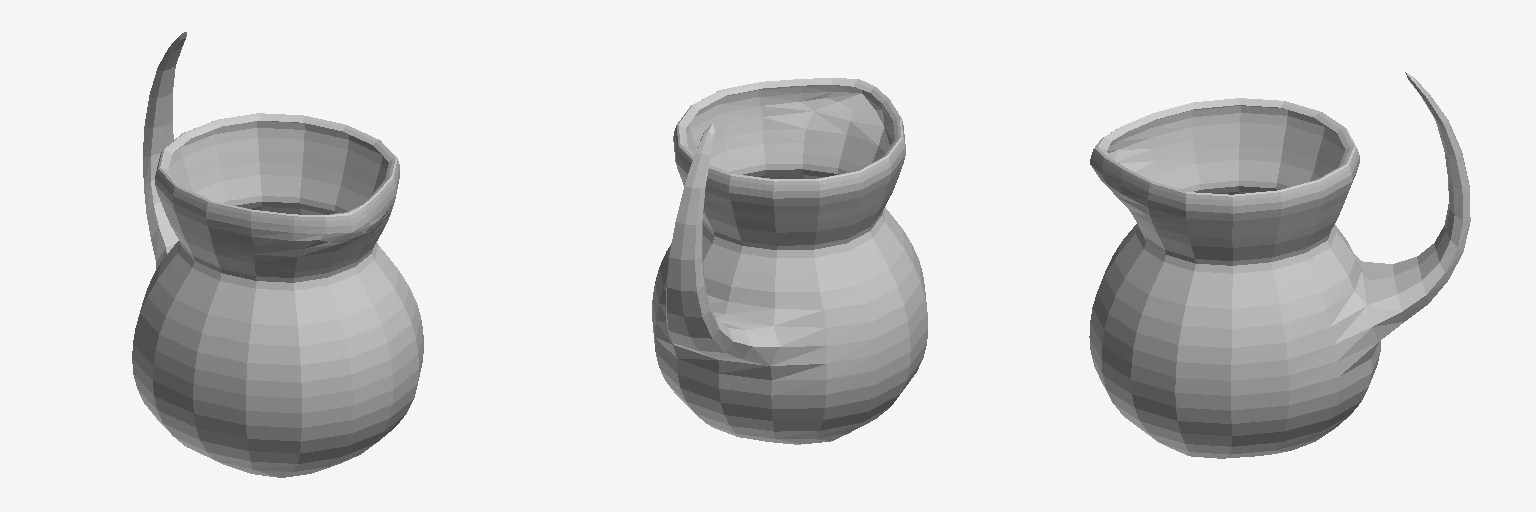
Rendered from HighPolyJarrónFinal.obj.
3 renders of one model, left to right at view 1: azimuth 30°, elevation 25°; view 2: azimuth 150°, elevation 25°; view 3: azimuth 270°, elevation 25°, orthographic.
Visible parts, largest first — view 1: HighPoly; view 2: HighPoly; view 3: HighPoly.
Boxes of the visible parts, box(x1,y1,x2,y2) form: HighPoly: box(132, 32, 423, 477); HighPoly: box(652, 78, 927, 444); HighPoly: box(1089, 72, 1470, 458).
Size of the model in its own units: 63.77 by 89.59 by 85.68.